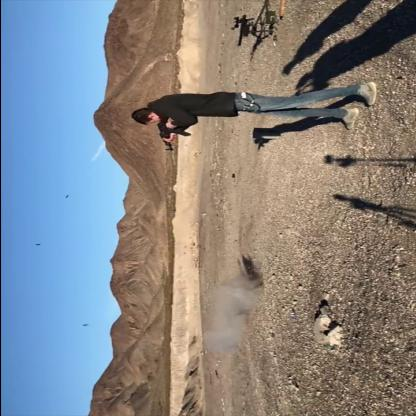long weapon: (148, 110, 196, 158), (229, 14, 277, 54)
